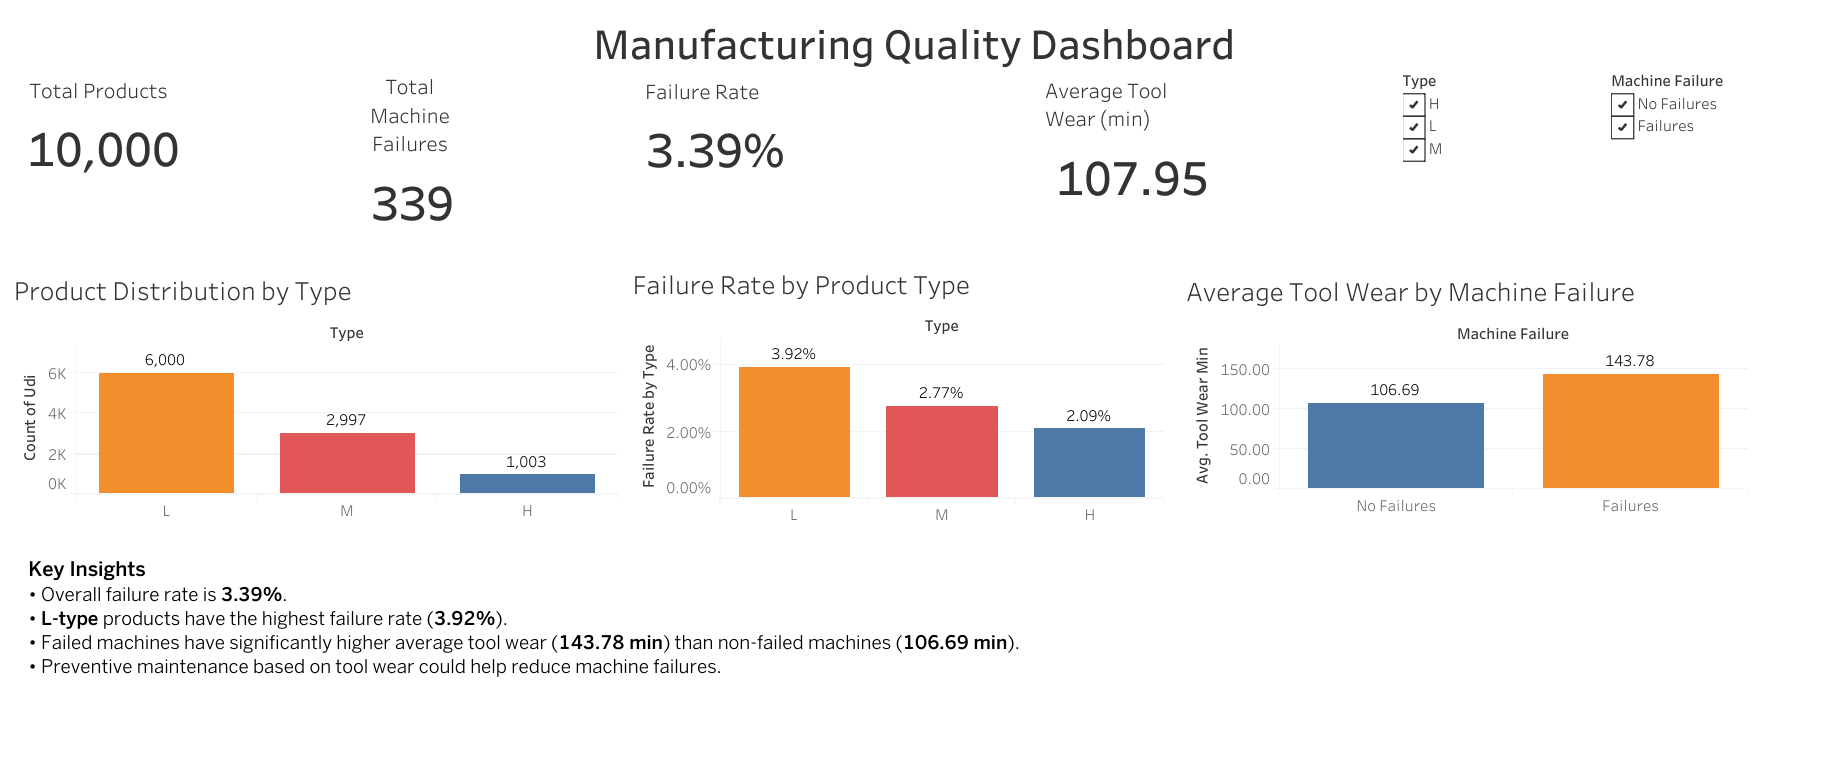

This screenshot's page, from the dashboard's own definition file:
{"tool":"tableau","page":{"name":"Manufacturing Quality Dashboard","canvas":[1000,1000],"units":"permille","ordinal":0},"visuals":[{"type":"title","box":[4.8,9.4,990.3,74]},{"type":"worksheet","title":"KPI - Total Failures","mark":"Automatic","box":[196.7,82.3,220.3,332.6]},{"type":"worksheet","title":"KPI - Average Tool Wear","mark":"Automatic","box":[568.5,87,333.1,332.6]},{"type":"filter","title":"Tool Wear by Machine Failure","param":"[federated.0ou3hqn12mpduq1846q751rkxudr].[none:machine_failure:ok]","box":[881.1,87,96.6,114]},{"type":"worksheet","title":"KPI - Total Products","mark":"Automatic","box":[6,88.1,247.4,278.5]},{"type":"filter","title":"Product Type Distribution","param":"[federated.0ou3hqn12mpduq1846q751rkxudr].[none:type:nk]","box":[767.1,88.1,100.8,141]},{"type":"worksheet","title":"KPI - Failure Rate","mark":"Automatic","box":[350,89.3,213.6,332.6]},{"type":"worksheet","title":"Failure Rate by Product Type","mark":"Automatic","rows":["Calculation_0129223195648002"],"cols":["type"],"box":[342.8,336.1,293.9,344.3]},{"type":"worksheet","title":"Product Type Distribution","mark":"Automatic","rows":["udi"],"cols":["type"],"box":[4.8,343.1,333.1,332.6]},{"type":"worksheet","title":"Tool Wear by Machine Failure","mark":"Automatic","rows":["tool_wear_min"],"cols":["machine_failure"],"box":[645.8,345.5,309.6,353.7]},{"type":"text","box":[13.9,693.3,584.2,212.7]}]}

Visuals, with their boxes on the dashboard's canvas, which has no fixed pixel size, in thousandths of its width and height (x1, y1, x2, y2). These are canvas units, not pixel positions in the 1828x770 screenshot, which may show the page scaled, cropped or inside an application window:
title: (5, 9, 995, 83)
"KPI - Total Failures" worksheet: (197, 82, 417, 415)
"KPI - Average Tool Wear" worksheet: (568, 87, 902, 420)
"Tool Wear by Machine Failure" filter: (881, 87, 978, 201)
"KPI - Total Products" worksheet: (6, 88, 253, 367)
"Product Type Distribution" filter: (767, 88, 868, 229)
"KPI - Failure Rate" worksheet: (350, 89, 564, 422)
"Failure Rate by Product Type" worksheet: (343, 336, 637, 680)
"Product Type Distribution" worksheet: (5, 343, 338, 676)
"Tool Wear by Machine Failure" worksheet: (646, 346, 955, 699)
text: (14, 693, 598, 906)
